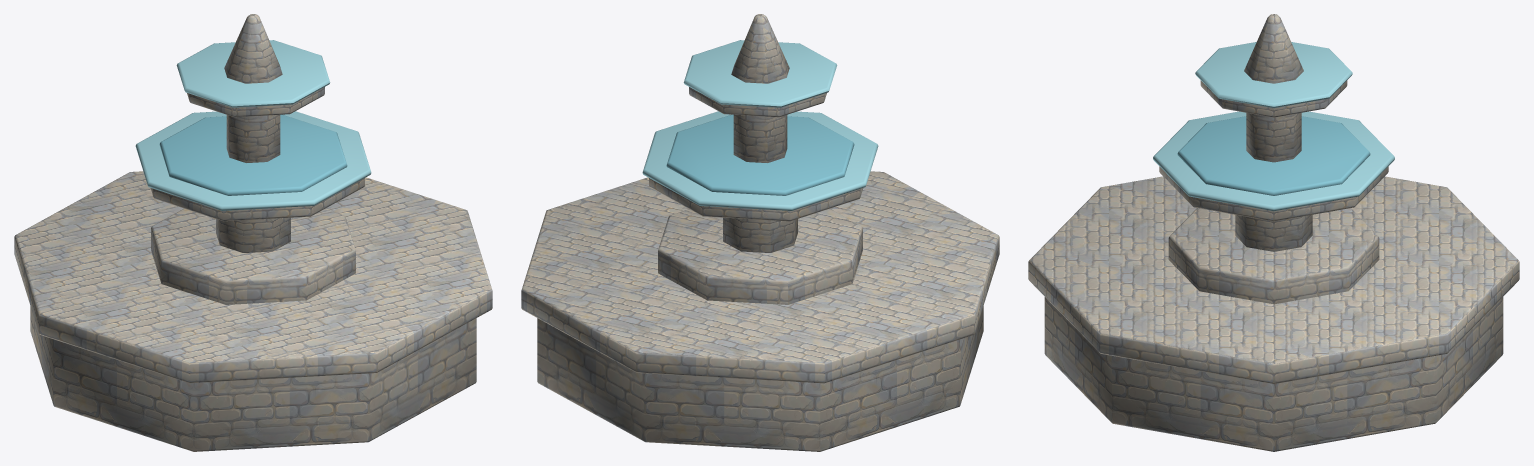
File: fountain.gltf
3 views of the same model, side by side, from view 1: azimuth 30°, elevation 25°; view 2: azimuth 150°, elevation 25°; view 3: azimuth 270°, elevation 25° (orthographic).
Parts seen in each view (by area): view 1: fountain; view 2: fountain; view 3: fountain.
Boxes of the visible parts, x1=… form: fountain: x1=14, y1=14, x2=492, y2=451; fountain: x1=521, y1=14, x2=999, y2=451; fountain: x1=1028, y1=14, x2=1519, y2=451.
Bounding box in the file's own units: 5.36 × 4.1 × 5.36.
Materials: 2 (2 with a texture image).
